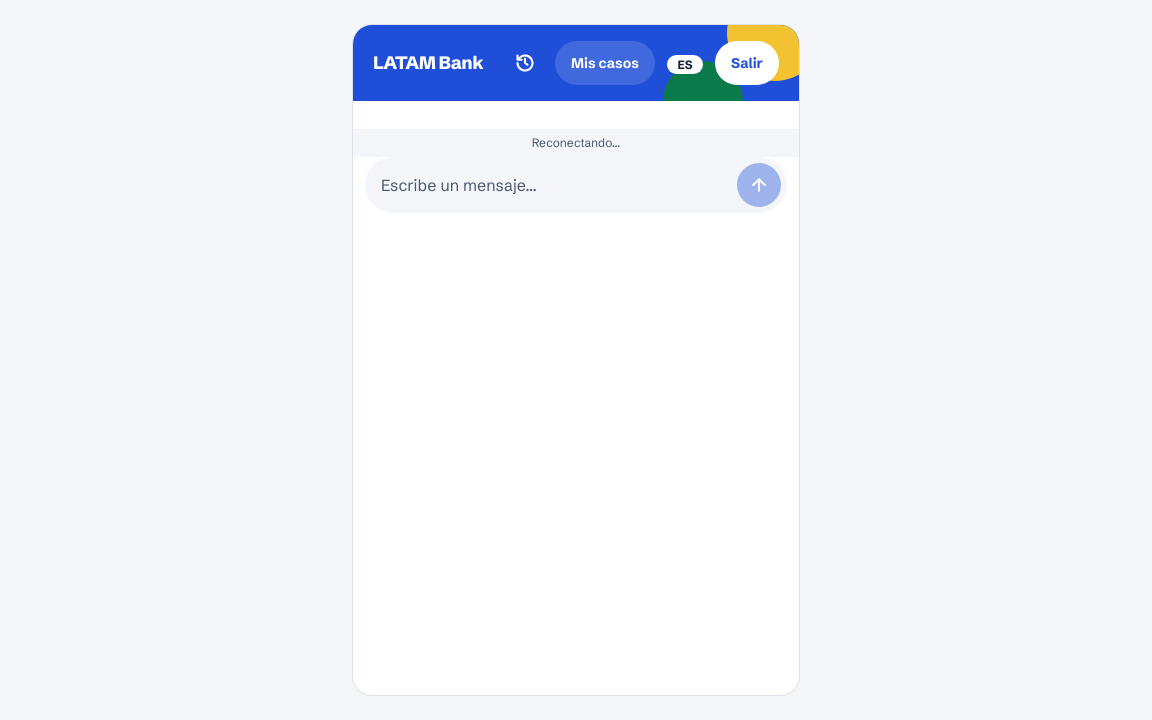
conversation history drawer › tapping the current conversation closes the drawer; Escape closes and focus returns
This screenshot has width=1152, height=720.
Click the button named "Conversaciones" at [525, 63], box [503,41,547,85]
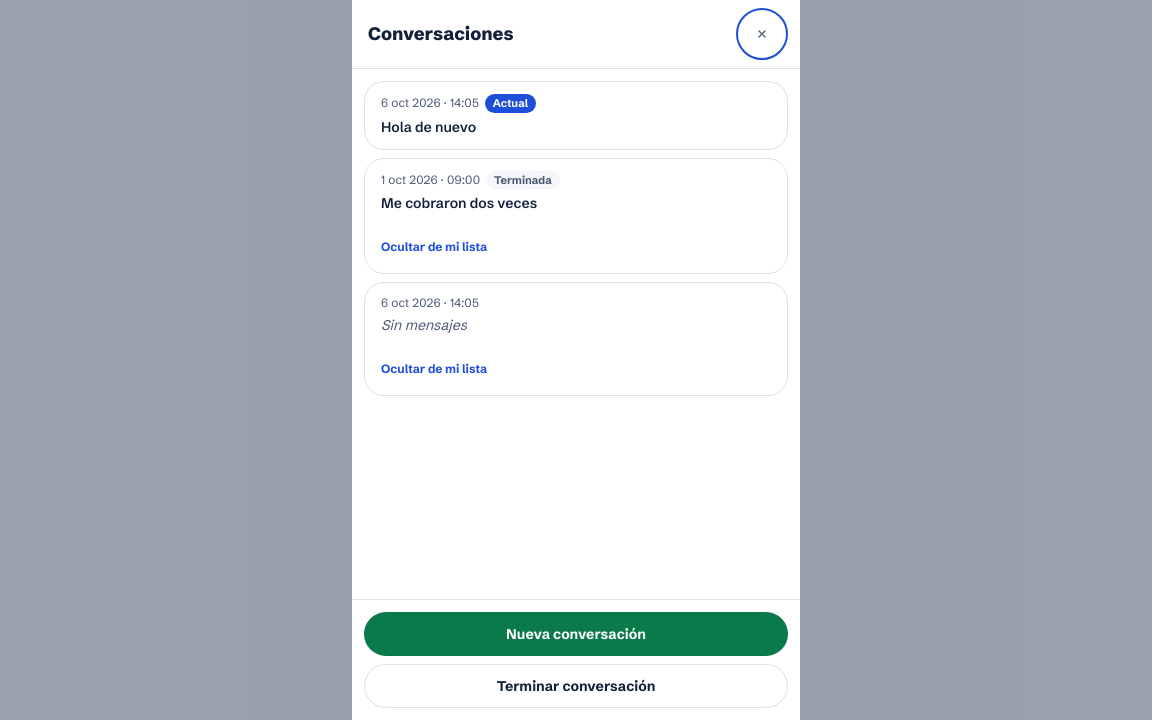
Check: the text "Me cobraron dos veces" is shown, box [381,193,537,213]
Click the button "6 oct 2026 · 14:05 Actual Hola de nuevo" at [430, 103], box [365,82,787,149]
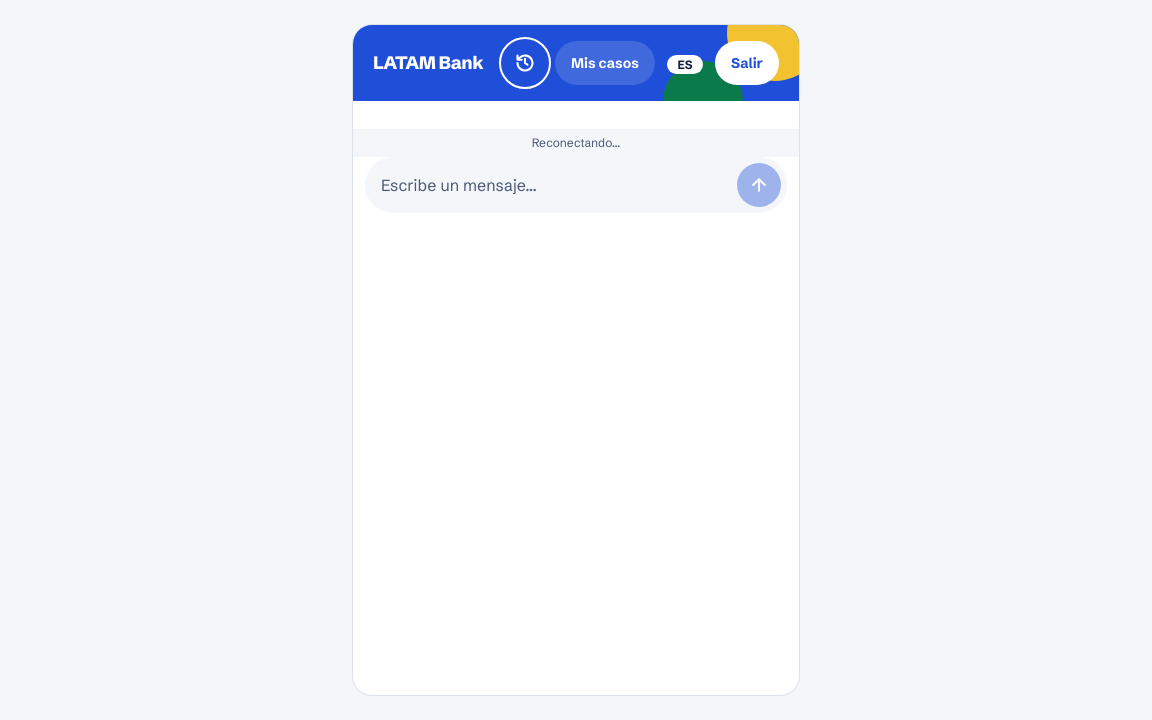
Check: the dialog is gone
Click the button named "Conversaciones" at [525, 63], box [503,41,547,85]
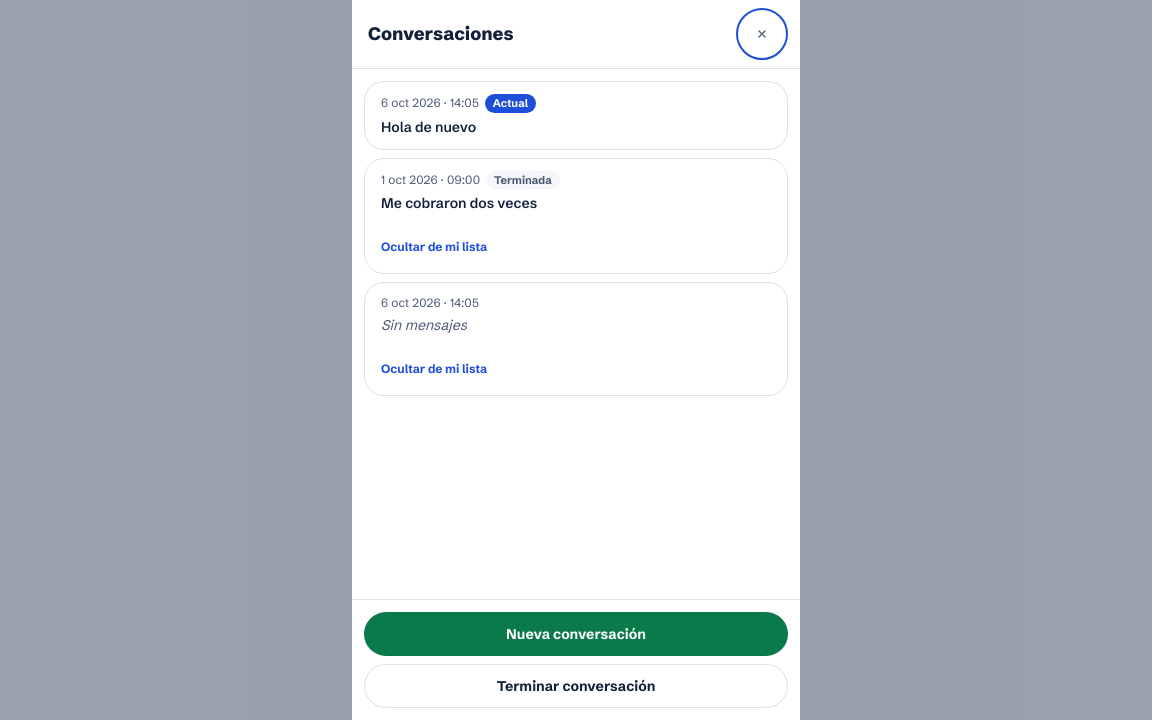
Check: the dialog is shown, box [352,0,800,719]
Press Escape
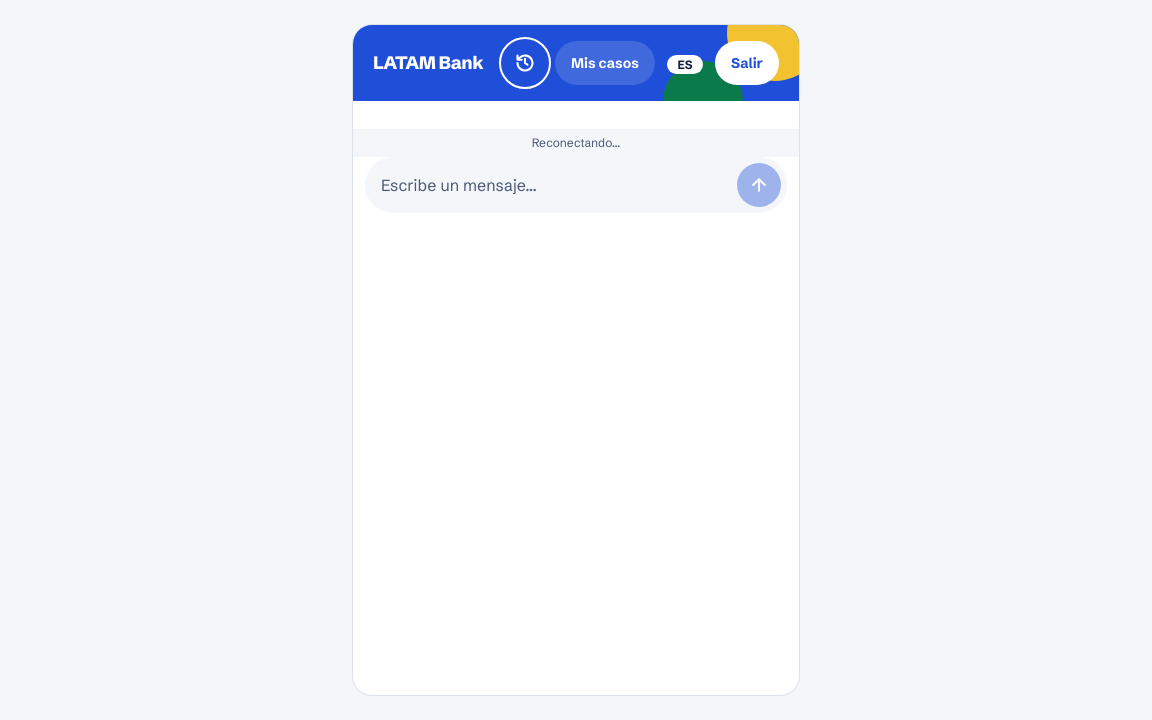
Check: the dialog is gone
